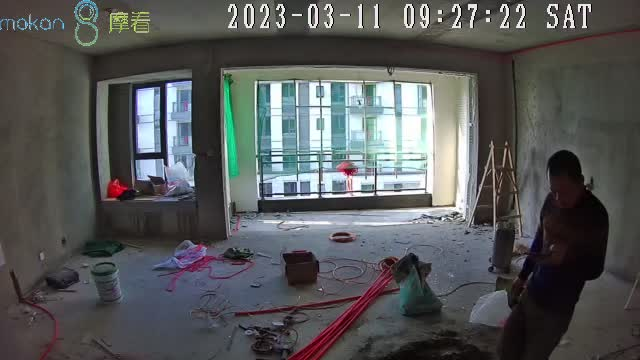people: (502, 150, 610, 360)
window: (256, 80, 430, 201), (131, 85, 193, 191)
